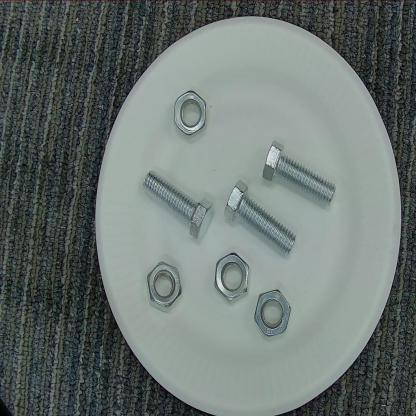FOD: (219, 180, 302, 258), (259, 138, 344, 210), (141, 167, 218, 240), (143, 256, 185, 320), (170, 85, 216, 141), (210, 247, 253, 306), (251, 284, 294, 341)
